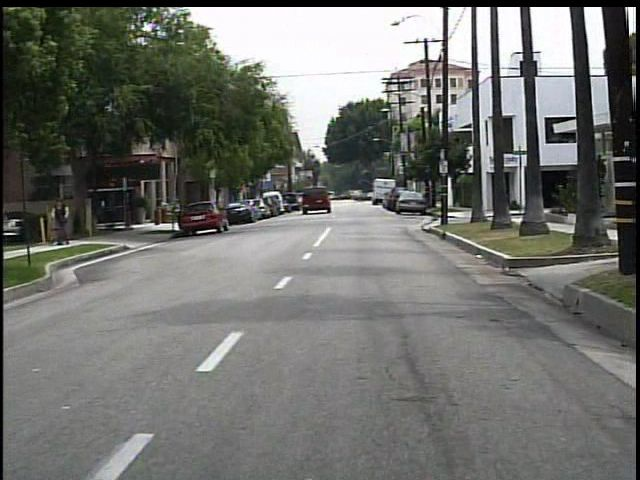person: (53, 196, 79, 247)
